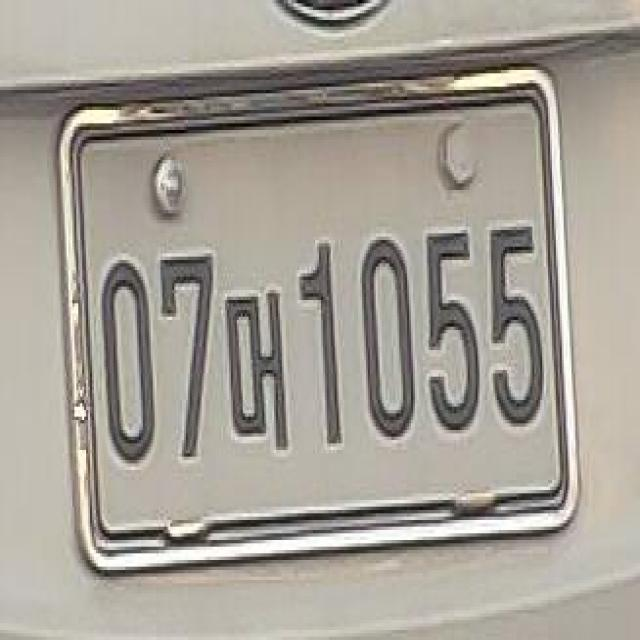illegal_plate: (69, 72, 576, 579)
